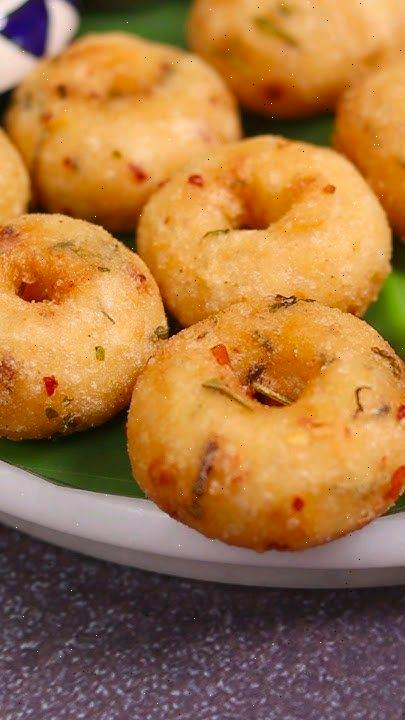medu vada: (0, 0, 405, 549)
